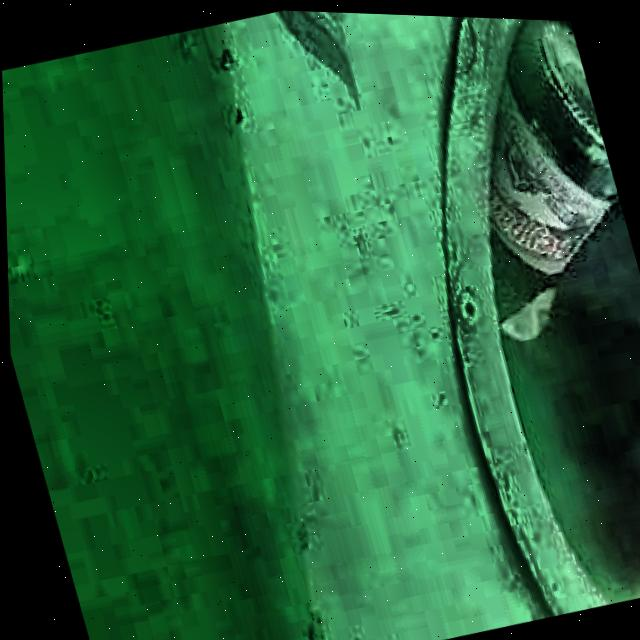glass: (486, 15, 617, 312)
